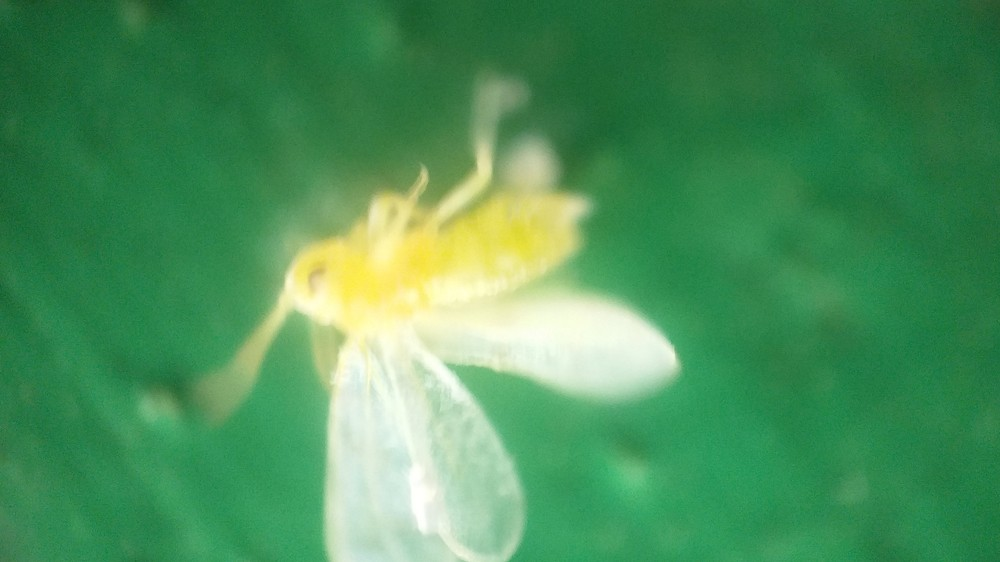Mosca Blanca: (201, 77, 707, 562)
